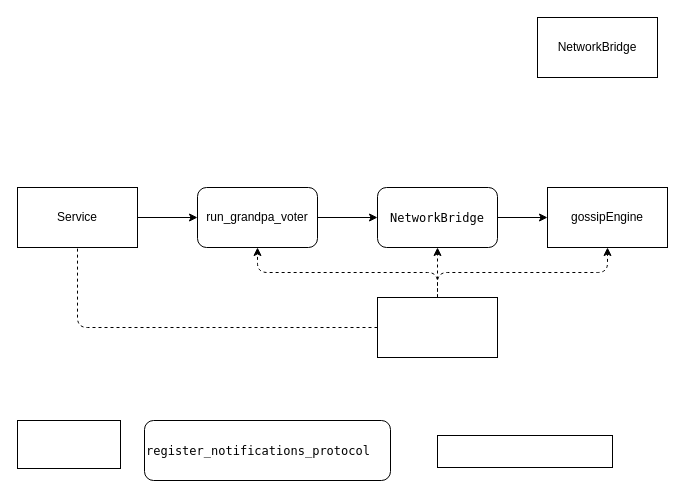
Image size: 685x498. Some labels were removed from this diagram. The centre of each missing label's shape, as x and y in pixels:
"Protocol" goes at (x=68, y=444).
"self.behaviour:GeneralProto" goes at (x=524, y=451).
"service.network()" goes at (x=437, y=327).
